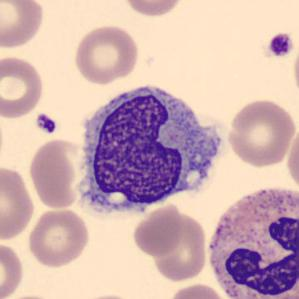Monocyte: (72, 77, 230, 219)
Neutrophil: (203, 178, 299, 299)
Platelets: (266, 32, 296, 60), (34, 112, 59, 136)
RBC: (225, 96, 296, 168), (150, 209, 210, 283), (27, 137, 87, 210), (72, 22, 140, 86), (26, 206, 92, 269), (0, 54, 46, 119), (131, 204, 184, 258), (0, 163, 36, 242), (0, 0, 46, 50), (0, 239, 25, 299), (121, 0, 187, 18), (166, 281, 228, 299), (285, 118, 299, 194), (291, 36, 299, 103)
